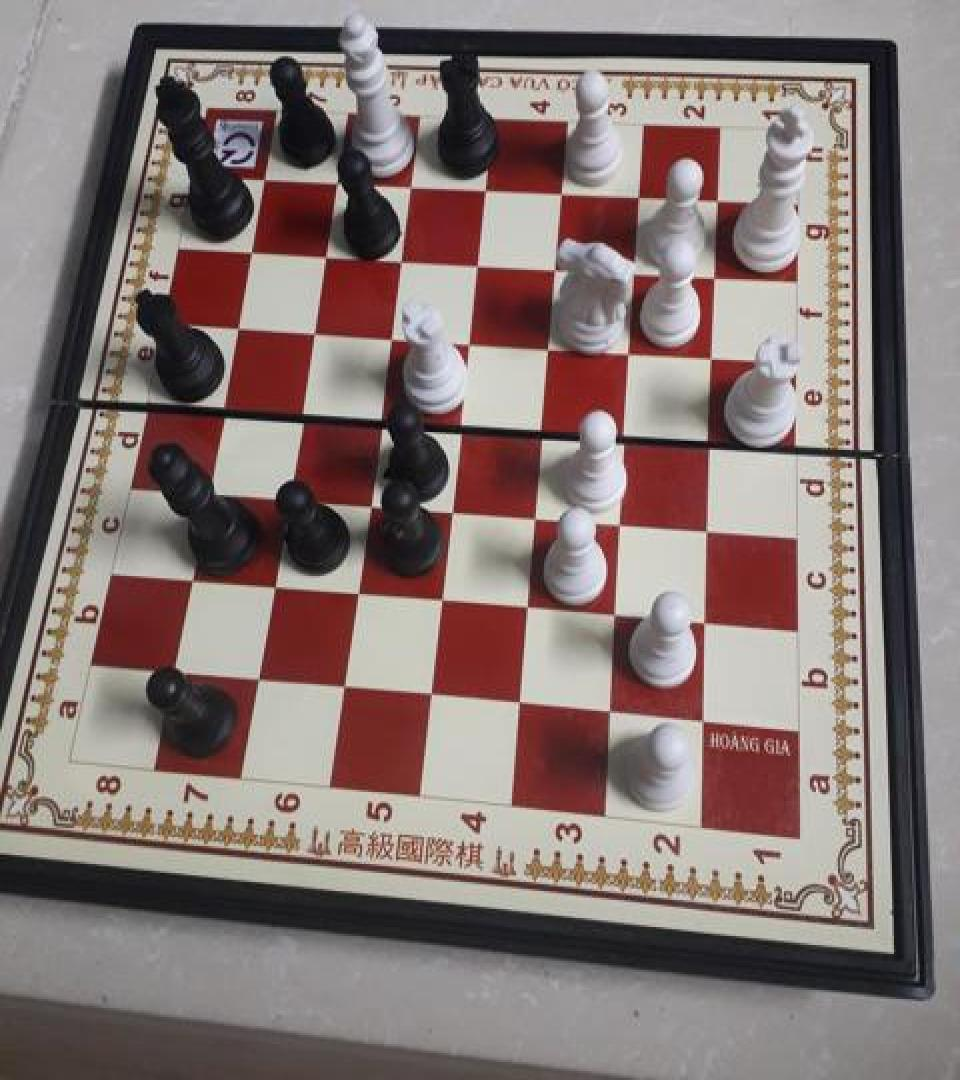xcorner: (251, 158, 281, 193), (547, 175, 577, 210), (161, 651, 191, 685), (246, 659, 276, 693), (332, 668, 362, 702), (419, 677, 449, 711), (508, 686, 538, 720), (598, 695, 628, 729), (690, 705, 720, 739), (178, 557, 208, 591), (344, 572, 374, 606), (429, 580, 459, 614), (516, 588, 546, 622), (603, 596, 633, 630), (692, 605, 722, 639), (194, 468, 224, 502), (275, 476, 305, 510), (439, 489, 469, 523), (523, 496, 553, 530), (608, 504, 638, 538), (694, 510, 724, 544), (210, 384, 240, 418), (288, 390, 318, 424), (367, 397, 397, 431), (529, 410, 559, 444), (612, 415, 642, 449), (696, 422, 726, 456), (224, 305, 254, 339), (378, 316, 408, 350), (456, 322, 486, 356), (535, 327, 565, 361), (616, 333, 646, 367), (698, 338, 728, 372), (238, 230, 268, 264), (312, 235, 342, 269), (388, 239, 418, 273), (464, 244, 494, 278), (541, 248, 571, 282), (620, 254, 650, 288), (699, 258, 729, 292), (324, 162, 354, 196), (397, 166, 427, 200), (471, 171, 501, 205), (623, 179, 653, 213), (701, 183, 731, 217), (261, 565, 291, 598), (356, 483, 386, 516), (448, 403, 478, 436), (300, 311, 330, 344)
